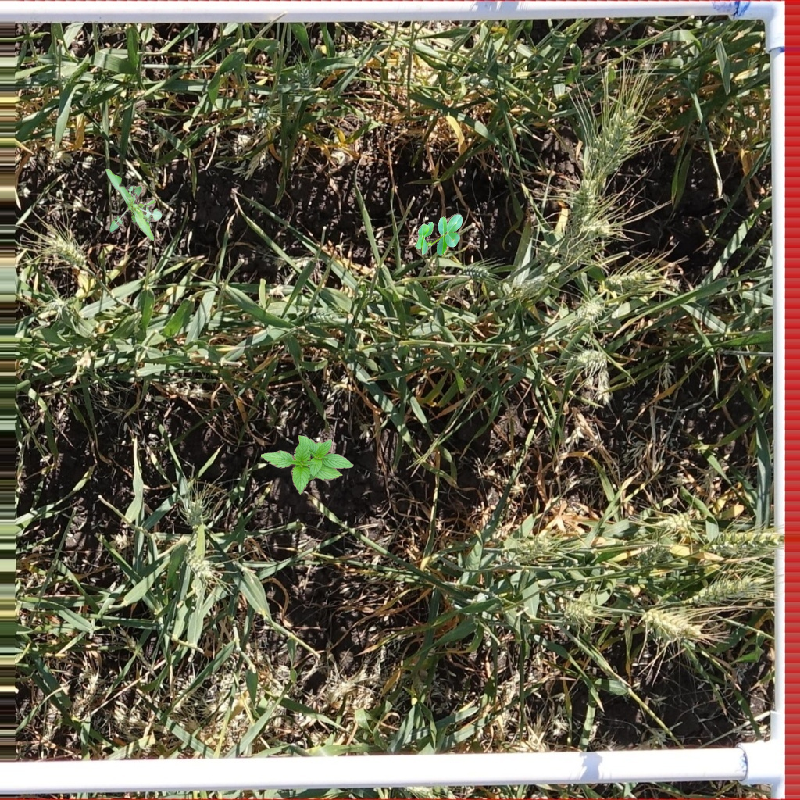spikelet: (589, 104, 639, 174), (688, 572, 763, 606), (640, 604, 702, 642), (710, 524, 780, 556), (504, 529, 556, 564), (44, 232, 89, 268), (603, 266, 655, 295), (508, 267, 555, 299), (565, 177, 598, 218), (184, 549, 219, 584), (559, 593, 598, 621), (37, 293, 76, 320), (572, 295, 606, 325), (570, 345, 610, 370), (180, 493, 208, 527), (658, 509, 695, 533), (461, 260, 491, 282)
weed: (261, 435, 354, 495), (105, 169, 163, 241), (407, 208, 469, 268)
